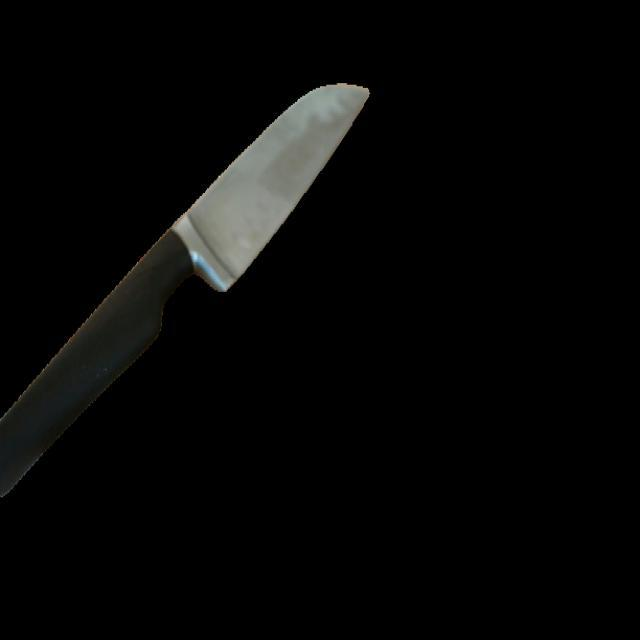knife: (0, 78, 373, 505)
